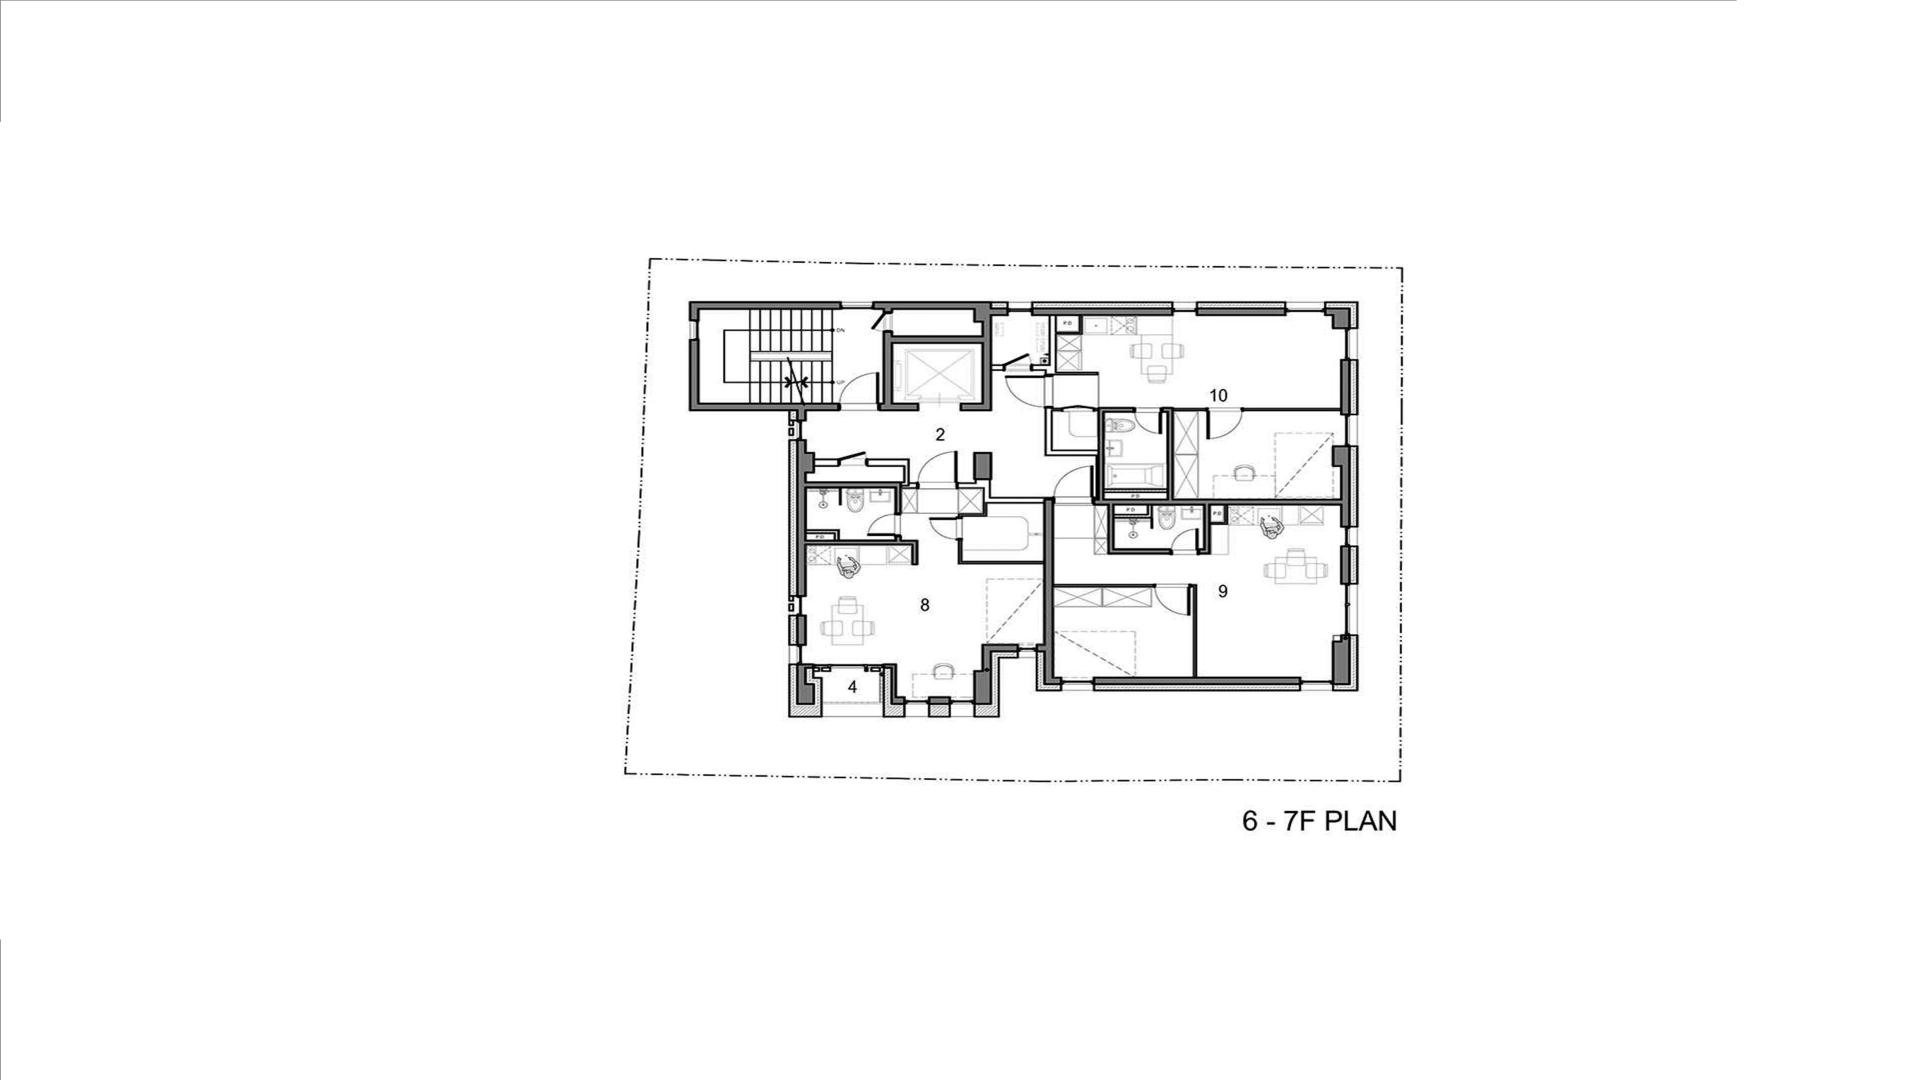door: (916, 451, 957, 489), (1005, 376, 1054, 407), (840, 372, 878, 411), (1055, 465, 1093, 505), (1205, 407, 1244, 439), (1155, 584, 1192, 616), (930, 517, 963, 541), (868, 514, 902, 537), (1171, 527, 1199, 555), (1134, 407, 1162, 434), (1004, 353, 1031, 372), (870, 310, 893, 331), (840, 451, 868, 467)
wall: (1043, 497, 1055, 676), (1093, 676, 1302, 686), (796, 439, 807, 596), (1093, 498, 1340, 505), (1031, 307, 1174, 316), (700, 301, 841, 310), (700, 402, 840, 411), (973, 644, 992, 704), (1332, 634, 1350, 686), (873, 301, 973, 310), (981, 323, 992, 402), (1196, 307, 1286, 316), (893, 335, 981, 344), (688, 339, 699, 411), (882, 331, 893, 402), (807, 539, 918, 546), (796, 669, 815, 705), (1340, 467, 1350, 527), (807, 481, 902, 488), (1340, 359, 1350, 415), (1167, 413, 1174, 498), (973, 452, 992, 480), (1096, 450, 1105, 498), (973, 301, 992, 323), (1340, 546, 1350, 584), (982, 497, 1043, 504), (1332, 446, 1350, 467), (1244, 407, 1340, 411), (878, 402, 919, 411), (1048, 316, 1056, 364), (1114, 549, 1171, 555), (1193, 584, 1197, 676), (1044, 450, 1096, 456), (1044, 407, 1052, 450), (1097, 407, 1105, 450), (796, 615, 807, 646), (1108, 505, 1114, 555), (1105, 488, 1167, 493), (963, 560, 1043, 564), (1031, 364, 1056, 376), (960, 402, 992, 411), (1204, 505, 1211, 549), (868, 459, 903, 467), (1055, 584, 1154, 587), (957, 480, 990, 488), (1324, 307, 1350, 316), (1332, 316, 1350, 330), (992, 644, 1018, 653), (894, 488, 902, 514), (815, 459, 840, 467), (690, 301, 699, 320), (890, 669, 897, 696), (928, 696, 951, 704), (807, 452, 815, 473), (1058, 372, 1098, 376), (992, 307, 1009, 316), (903, 459, 910, 483), (911, 546, 919, 566), (1105, 407, 1134, 413), (1114, 514, 1153, 518), (1043, 676, 1062, 684), (807, 529, 833, 534), (890, 696, 905, 705), (957, 541, 963, 564), (1174, 407, 1205, 411), (957, 513, 988, 517), (796, 411, 807, 422), (902, 483, 916, 489), (796, 663, 814, 669), (992, 364, 1004, 371), (1199, 549, 1211, 555), (833, 529, 840, 539), (884, 663, 897, 669), (1224, 505, 1228, 522), (1058, 332, 1083, 335), (1162, 407, 1174, 413), (1035, 644, 1043, 651), (982, 489, 990, 497), (1079, 316, 1083, 331), (982, 504, 988, 513), (1147, 505, 1153, 514), (1211, 522, 1228, 525), (1052, 407, 1062, 411), (894, 537, 902, 539)
window: (1340, 584, 1357, 634), (1287, 302, 1324, 316), (1340, 330, 1358, 359), (1340, 415, 1358, 444), (814, 663, 882, 669), (1340, 527, 1358, 546), (1009, 302, 1031, 316), (1174, 302, 1196, 316), (1302, 676, 1332, 686), (1063, 676, 1092, 686), (841, 302, 873, 310), (906, 696, 928, 705), (796, 646, 807, 663), (796, 597, 807, 615), (796, 422, 807, 439), (951, 696, 973, 704), (690, 320, 699, 339), (1019, 644, 1035, 651)
